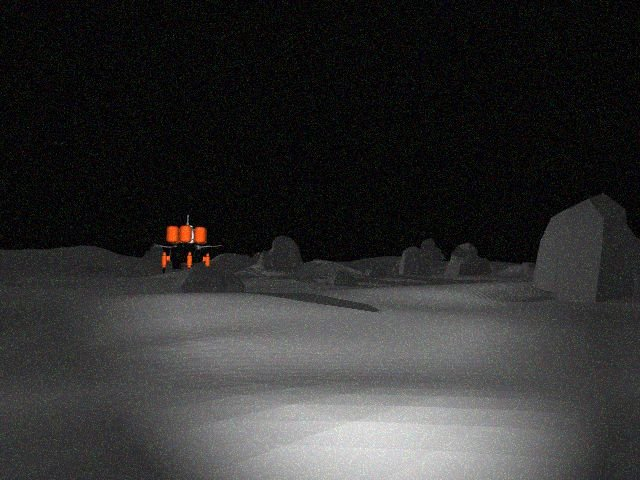homebase: (147, 211, 224, 276)
